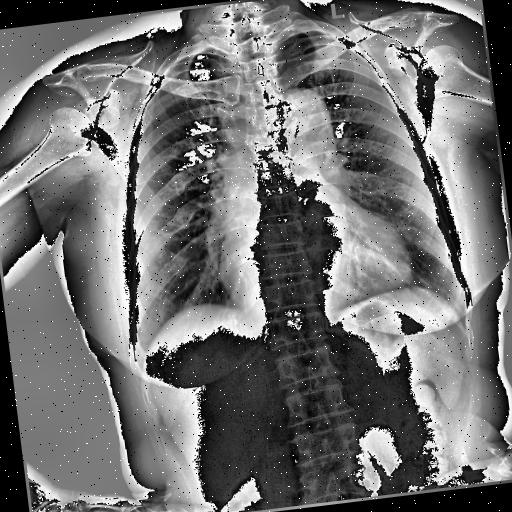0- Aortic enlargement: (267, 87, 336, 170), (274, 84, 334, 150), (276, 84, 336, 148)
3- Cardiomegaly: (214, 216, 414, 309), (214, 222, 416, 306), (215, 237, 416, 310)
